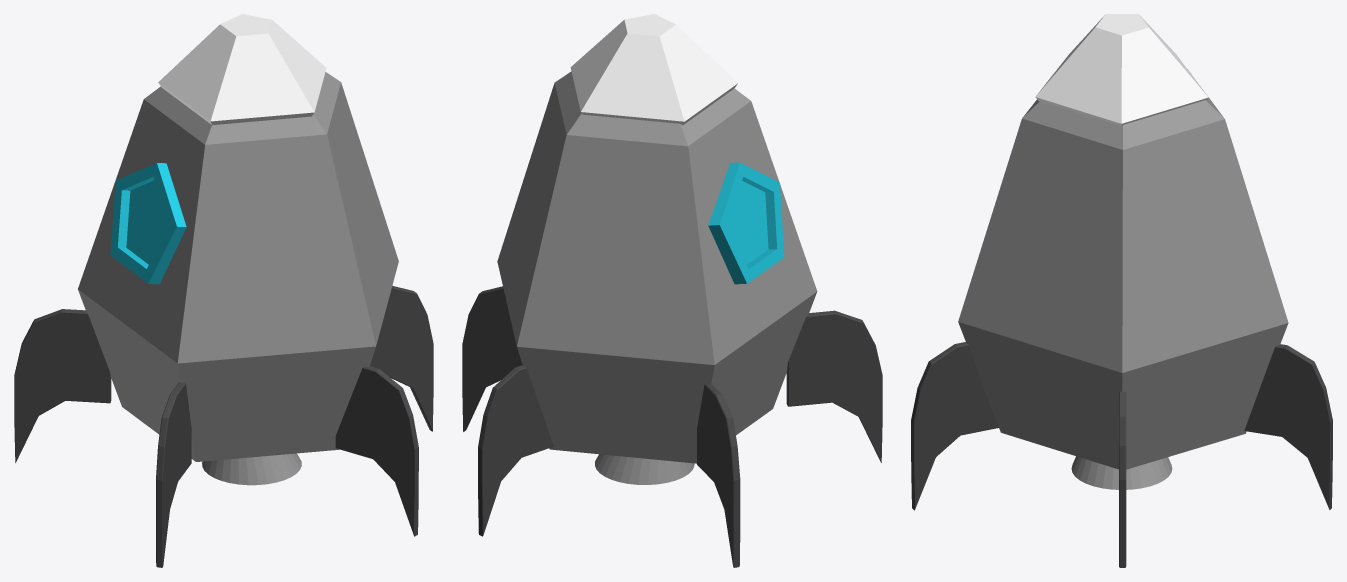
File: TestRocket.fbx
3 views of the same model, side by side, from view 1: azimuth 30°, elevation 25°; view 2: azimuth 150°, elevation 25°; view 3: azimuth 270°, elevation 25° (orthographic).
Parts seen in each view (by area): view 1: rocketFusalage, Circle, Plane.005, Plane.007, Circle.001, Plane.002, Plane.006; view 2: rocketFusalage, Circle, Plane.006, Circle.001, Plane.004, Plane.002, Plane.005; view 3: rocketFusalage, Circle, Plane.004, Plane.007, Plane.002.
Boxes of the visible parts, x1=… form: rocketFusalage: x1=78, y1=72, x2=398, y2=485; Circle: x1=158, y1=14, x2=326, y2=125; Plane.005: x1=14, y1=309, x2=111, y2=462; Plane.007: x1=335, y1=366, x2=418, y2=536; Circle.001: x1=110, y1=163, x2=186, y2=284; Plane.002: x1=370, y1=286, x2=433, y2=431; Plane.006: x1=156, y1=382, x2=191, y2=567; rocketFusalage: x1=497, y1=71, x2=817, y2=484; Circle: x1=570, y1=14, x2=737, y2=124; Plane.006: x1=786, y1=310, x2=882, y2=462; Circle.001: x1=708, y1=162, x2=784, y2=284; Plane.004: x1=478, y1=365, x2=553, y2=536; Plane.002: x1=462, y1=286, x2=522, y2=431; Plane.005: x1=697, y1=384, x2=740, y2=567; rocketFusalage: x1=958, y1=69, x2=1288, y2=489; Circle: x1=1035, y1=14, x2=1208, y2=125; Plane.004: x1=1244, y1=344, x2=1332, y2=509; Plane.007: x1=911, y1=342, x2=998, y2=510; Plane.002: x1=1119, y1=391, x2=1126, y2=567.
Bounding box in the file's own units: 314 × 389 × 327.
